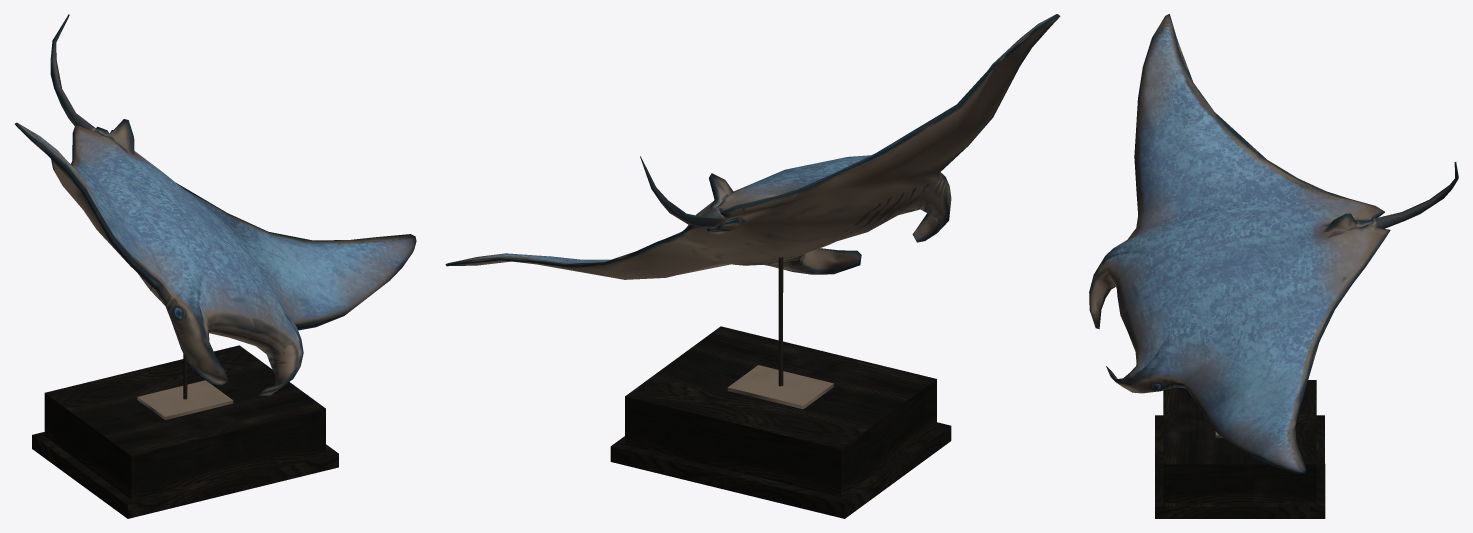
The model's file is bronze_ray_statue.glb.
3 renders of one model, left to right at view 1: azimuth 30°, elevation 25°; view 2: azimuth 150°, elevation 25°; view 3: azimuth 270°, elevation 25°, orthographic. The views are drawn at different scales.
Visible parts, largest first — view 1: bronze_ray_statue; view 2: bronze_ray_statue; view 3: bronze_ray_statue.
Part boxes in pixels (x1=…): bronze_ray_statue: x1=15, y1=14, x2=416, y2=518; bronze_ray_statue: x1=445, y1=14, x2=1060, y2=518; bronze_ray_statue: x1=1089, y1=14, x2=1458, y2=518.
Bounding box in the file's own units: 0.7075 × 0.5897 × 0.5355.
1 material, 1 textured.
